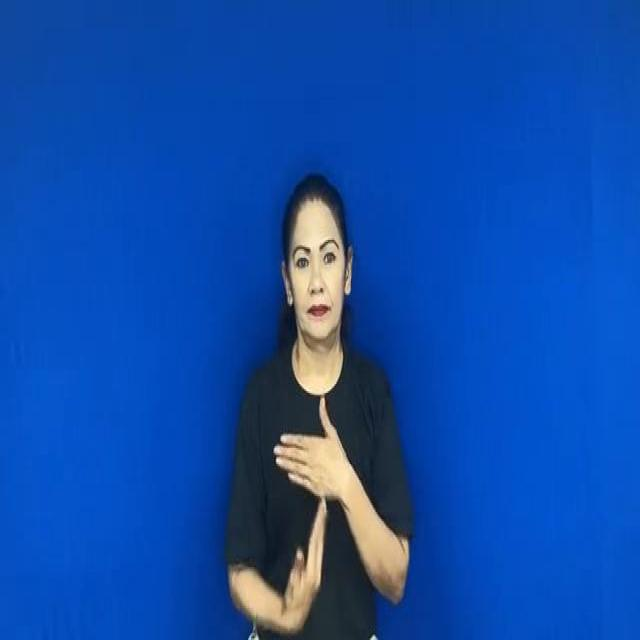bread: (272, 399, 350, 640)
